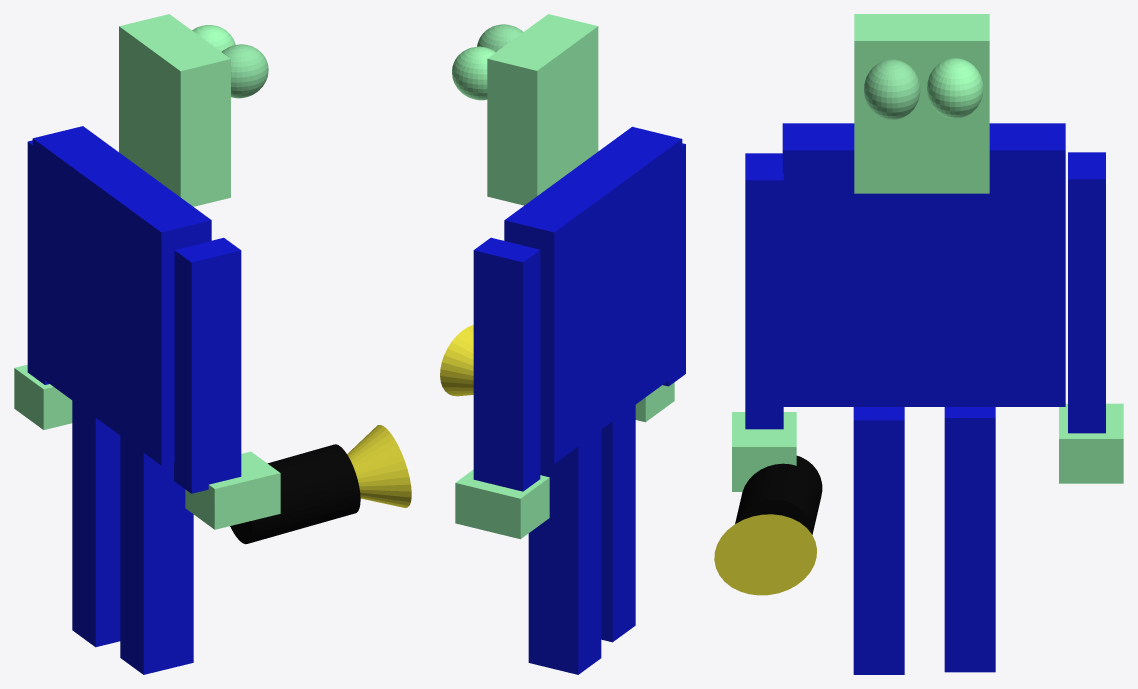
3 views of the same model, side by side, from view 1: azimuth 30°, elevation 25°; view 2: azimuth 150°, elevation 25°; view 3: azimuth 270°, elevation 25° (orthographic). The views are drawn at different scales.
Visible parts, largest first — view 1: Cube, Cube.007, Cube.002, Cube.006, Cube.005, Cylinder, Cube.004, Cone, Cube.003, Sphere, Cube.001, Sphere.001; view 2: Cube, Cube.007, Cube.001, Cube.005, Cube.006, Cube.003, Cone, Sphere.001, Cube.002, Cube.004, Sphere; view 3: Cube, Cube.007, Cube.006, Cube.005, Cube.002, Cube.001, Cone, Cylinder, Cube.003, Cube.004, Sphere, Sphere.001.
Part boxes in pixels (x1,y1,x2,y2): Cube: (32,126,211,465); Cube.007: (119,14,230,206); Cube.002: (174,237,241,493); Cube.006: (120,436,193,674); Cube.005: (72,400,120,647); Cylinder: (230,444,360,544); Cube.004: (185,451,280,529); Cone: (347,425,411,507); Cube.003: (14,364,72,429); Sphere: (222,44,268,98); Cube.001: (27,140,49,384); Sphere.001: (192,25,235,51); Cube: (504,126,682,463); Cube.007: (487,14,598,205); Cube.001: (473,237,540,491); Cube.005: (528,430,601,674); Cube.006: (601,405,635,642); Cube.003: (455,469,549,539); Cone: (440,325,473,396); Sphere.001: (452,46,495,100); Cube.002: (663,143,685,386); Cube.004: (635,382,674,422); Sphere: (477,24,522,51); Cube: (782,123,1065,406); Cube.007: (854,14,989,193); Cube.006: (853,407,904,674); Cube.005: (944,407,995,672); Cube.002: (745,153,783,429); Cube.001: (1068,152,1105,433); Cone: (714,514,816,595); Cylinder: (735,455,822,534); Cube.003: (1059,403,1123,483); Cube.004: (732,412,796,491); Sphere: (864,59,920,119); Sphere.001: (927,58,983,118).
Size of the model in its own units: 2.05 by 5.11 by 2.89.
